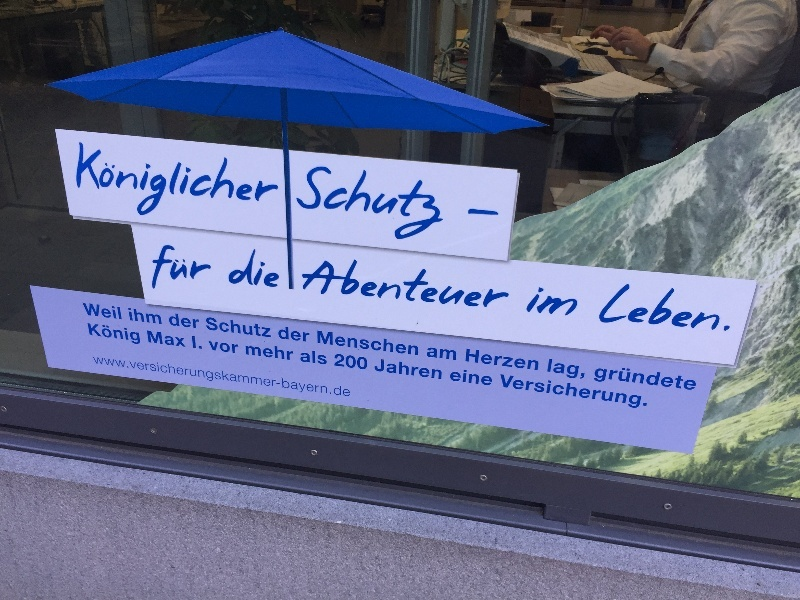text: (321, 163, 336, 246), (337, 163, 352, 246), (353, 163, 368, 246), (369, 163, 384, 246), (385, 163, 400, 246), (401, 163, 416, 246), (417, 163, 432, 246), (433, 163, 448, 246), (81, 141, 96, 223), (97, 141, 112, 223), (113, 141, 128, 223), (129, 141, 144, 223), (145, 141, 160, 223), (161, 141, 176, 223), (177, 141, 192, 223), (193, 141, 208, 223), (209, 141, 224, 223), (225, 141, 240, 223), (241, 141, 256, 223), (257, 141, 272, 223), (321, 254, 336, 323), (337, 254, 352, 323), (353, 254, 368, 323), (369, 254, 384, 323), (385, 254, 400, 323), (401, 254, 416, 323), (417, 254, 432, 323), (433, 254, 448, 323), (449, 254, 464, 323), (465, 254, 480, 323), (481, 254, 496, 323), (497, 254, 512, 323), (310, 163, 320, 246), (641, 283, 656, 333), (657, 283, 672, 333), (673, 283, 688, 333), (689, 283, 704, 333), (705, 283, 720, 333), (449, 163, 458, 246), (161, 243, 176, 292), (177, 243, 192, 292), (193, 243, 208, 292), (626, 283, 640, 333), (273, 141, 281, 223), (241, 249, 256, 289), (257, 249, 272, 289), (513, 372, 528, 411), (529, 372, 544, 411), (545, 372, 560, 411), (561, 372, 576, 411), (577, 372, 592, 411), (593, 372, 608, 411), (609, 372, 624, 411), (625, 372, 640, 411), (721, 283, 732, 333), (97, 354, 112, 389), (113, 354, 128, 389), (129, 354, 144, 389), (145, 354, 160, 389), (161, 354, 176, 389), (177, 354, 192, 389), (193, 354, 208, 389), (209, 354, 224, 389), (225, 354, 240, 389), (241, 354, 256, 389), (257, 354, 272, 389), (499, 372, 512, 411), (545, 286, 560, 319), (561, 286, 576, 319), (313, 254, 320, 323), (609, 363, 624, 394), (625, 363, 640, 394), (641, 363, 656, 394), (657, 363, 672, 394), (673, 363, 688, 394), (321, 330, 336, 357), (337, 330, 352, 357), (353, 330, 368, 357), (369, 330, 384, 357), (385, 330, 400, 357), (401, 330, 416, 357), (97, 322, 112, 347), (113, 322, 128, 347), (596, 363, 608, 394), (273, 249, 282, 289), (209, 316, 224, 340), (225, 316, 240, 340), (241, 316, 256, 340), (257, 316, 272, 340), (481, 348, 496, 372), (497, 348, 512, 372), (513, 348, 528, 372), (561, 358, 576, 382), (577, 358, 592, 382), (513, 254, 518, 323), (209, 243, 216, 292), (466, 348, 480, 372), (577, 286, 587, 319), (385, 358, 400, 380), (401, 358, 416, 380), (417, 358, 432, 380), (129, 322, 142, 347), (689, 363, 699, 394), (81, 302, 96, 322), (97, 302, 112, 322), (129, 307, 144, 327), (145, 307, 160, 327), (161, 329, 176, 349), (465, 367, 480, 387), (289, 378, 304, 398), (305, 378, 320, 398), (321, 378, 336, 398), (257, 343, 272, 362), (273, 343, 288, 362), (146, 329, 160, 349), (481, 367, 495, 387), (337, 378, 351, 398), (641, 372, 648, 411), (177, 312, 192, 330), (289, 325, 304, 343), (529, 348, 540, 372), (549, 358, 560, 382), (451, 367, 464, 387), (433, 346, 448, 363), (337, 354, 352, 371), (353, 354, 368, 371), (86, 322, 96, 347), (373, 358, 384, 380), (305, 350, 320, 366), (244, 343, 256, 362), (225, 341, 241, 355), (209, 341, 224, 355), (113, 302, 123, 322), (177, 329, 187, 349), (538, 286, 544, 319), (277, 325, 288, 343), (433, 358, 442, 380), (166, 312, 176, 330), (91, 354, 96, 389), (78, 141, 80, 223), (157, 243, 160, 292), (273, 354, 277, 389), (449, 346, 457, 363), (481, 208, 496, 217), (193, 336, 202, 351), (289, 343, 296, 362), (193, 312, 200, 330), (305, 325, 312, 343), (237, 249, 240, 289), (282, 378, 288, 398), (321, 350, 328, 366), (468, 208, 480, 217), (426, 346, 432, 363), (317, 330, 320, 357), (299, 350, 304, 366), (417, 330, 419, 357), (333, 354, 336, 371), (206, 316, 208, 340), (126, 307, 128, 327), (161, 307, 163, 327), (277, 382, 288, 385), (190, 336, 192, 351), (593, 358, 594, 382), (497, 208, 499, 217), (207, 341, 208, 355)
